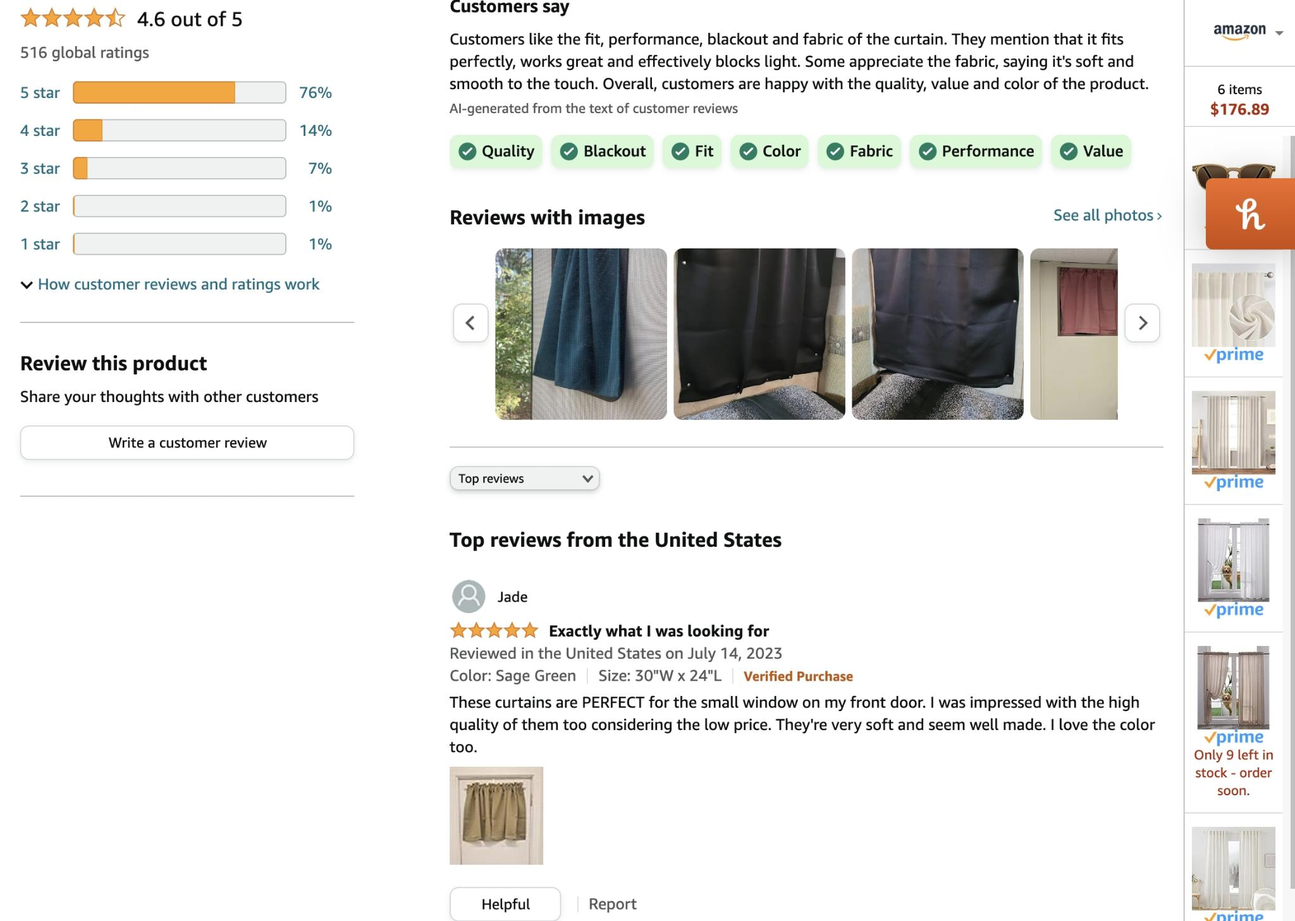webelement: (448, 465, 1162, 921), (494, 247, 1295, 419), (19, 80, 331, 253), (448, 692, 1153, 755), (448, 29, 1148, 92), (19, 349, 353, 459), (850, 247, 1022, 419), (1028, 247, 1200, 419), (494, 247, 665, 419), (672, 247, 843, 419), (1207, 247, 1295, 419), (448, 98, 1162, 116), (1184, 0, 1294, 97), (20, 426, 352, 458), (448, 766, 542, 864), (1191, 518, 1275, 602), (1191, 645, 1275, 729), (1191, 135, 1275, 218), (1191, 263, 1275, 346), (1191, 390, 1275, 473), (1191, 827, 1275, 910), (448, 643, 781, 662), (136, 4, 353, 31), (448, 665, 720, 684), (37, 275, 318, 293), (71, 81, 285, 103), (71, 118, 285, 140), (71, 156, 285, 178), (71, 194, 285, 216), (71, 232, 285, 254), (908, 134, 1040, 167), (1193, 746, 1272, 797), (548, 621, 768, 639), (450, 888, 558, 920), (551, 134, 653, 167), (448, 134, 541, 167), (448, 577, 526, 615), (817, 134, 900, 167), (448, 467, 598, 485), (1050, 134, 1130, 167), (729, 134, 807, 167), (19, 4, 125, 28), (136, 6, 242, 30), (19, 43, 148, 61), (941, 139, 1033, 162), (1052, 205, 1162, 223), (662, 134, 721, 167), (448, 621, 537, 641), (448, 768, 542, 786), (742, 668, 851, 683), (583, 139, 645, 162), (448, 577, 485, 615), (1191, 262, 1275, 278), (1191, 134, 1275, 149), (1191, 389, 1275, 404), (1191, 517, 1275, 532), (1191, 644, 1275, 659), (1191, 826, 1275, 841), (453, 304, 486, 341), (1125, 304, 1158, 341), (481, 139, 532, 162), (849, 139, 892, 162), (1204, 473, 1262, 490), (1204, 219, 1262, 235), (1204, 346, 1262, 362), (1204, 601, 1262, 617), (1204, 729, 1262, 745), (457, 470, 523, 484), (1082, 139, 1122, 162), (1209, 102, 1268, 117), (762, 139, 799, 162), (588, 894, 635, 912), (1214, 25, 1265, 40), (19, 82, 59, 101), (19, 120, 59, 139), (19, 158, 59, 177), (19, 196, 59, 215), (19, 234, 59, 253), (1216, 80, 1260, 95), (1203, 910, 1262, 921), (298, 82, 331, 101), (298, 120, 331, 139), (496, 587, 526, 605), (308, 158, 331, 177), (308, 196, 331, 215), (308, 234, 331, 253), (695, 139, 713, 162)
